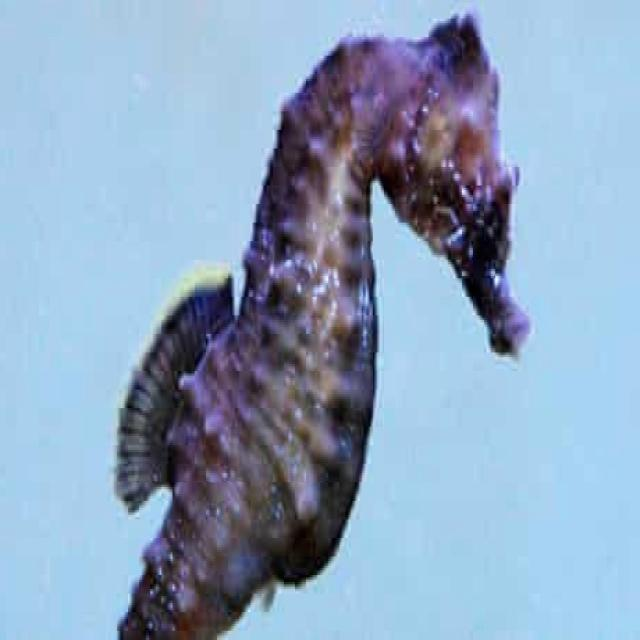seahorse: (117, 14, 529, 638)
